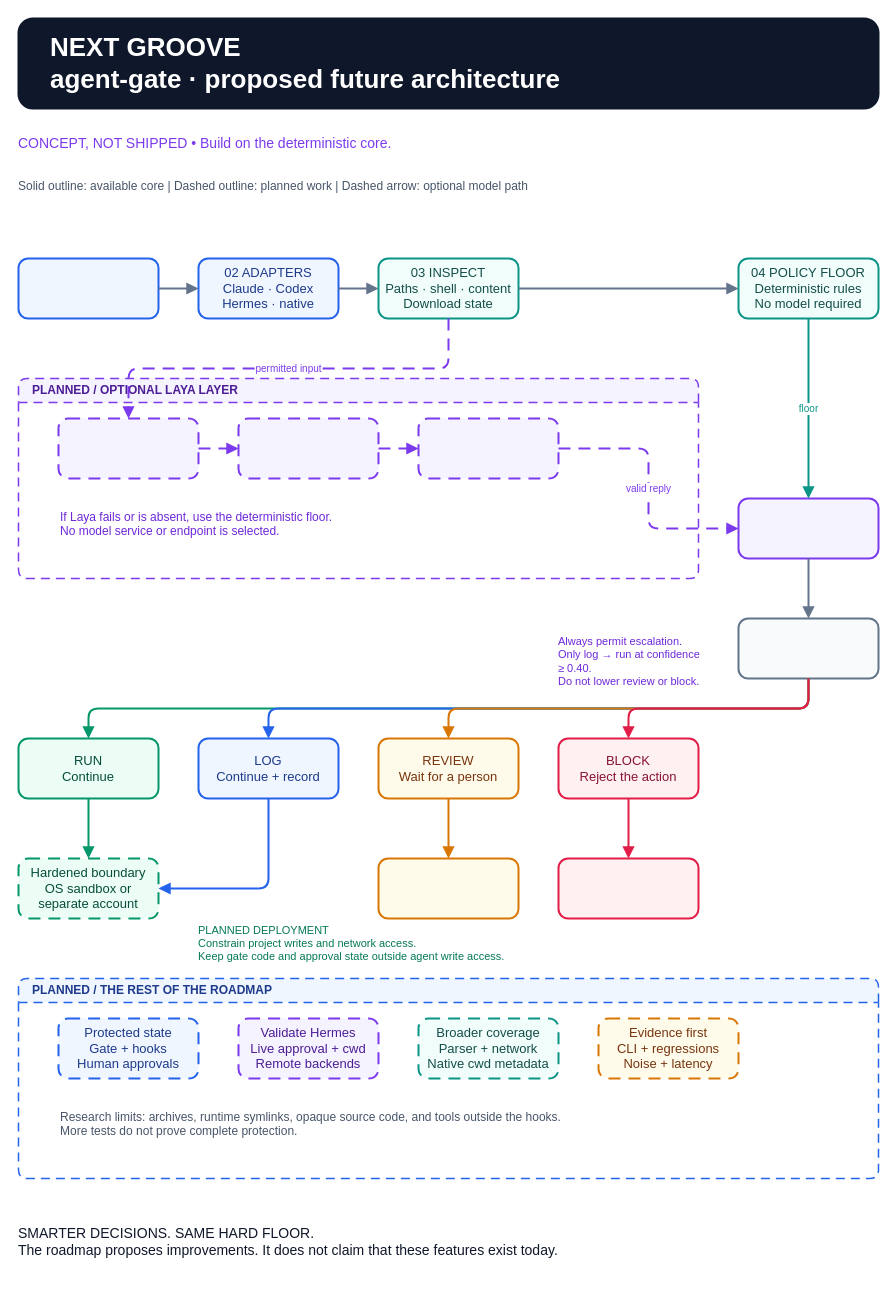
Some shapes in this 896 by 1290 pixel diagram are drawn without their labels. The centre of each missing label's shape, as x and y in pixels:
01 AGENT Shell · files · patches: the point at 88,288
05 SAFE MERGE model_verdict + model_conf: the point at 808,528
06 ENFORCE Host permissions also apply: the point at 808,648
Human approval Host prompt or Exact-call retry: the point at 448,888
Laya decision Typed verdict Numeric confidence: the point at 308,448
Permitted input Apply data rules Protect secrets: the point at 128,448
STOP No tool execution: the point at 628,888
Validate reply Schema + deadline Failure: keep floor: the point at 488,448
